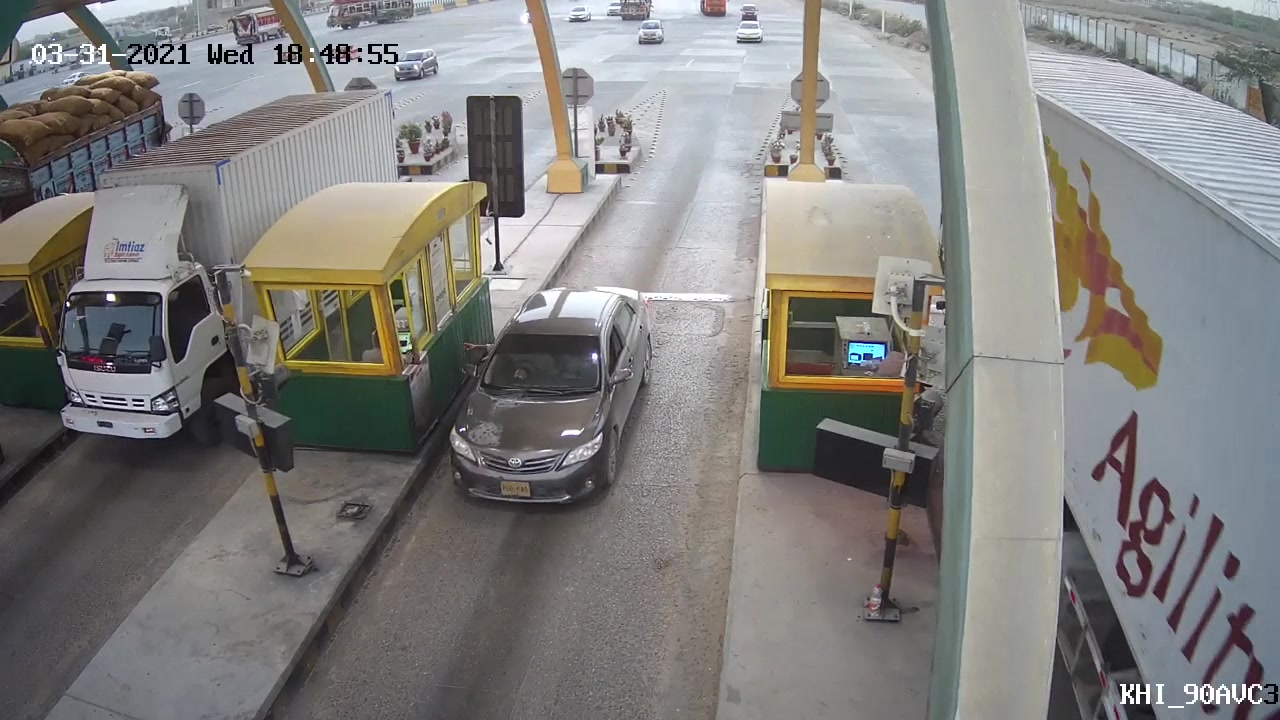F1: (430, 274, 661, 509)
